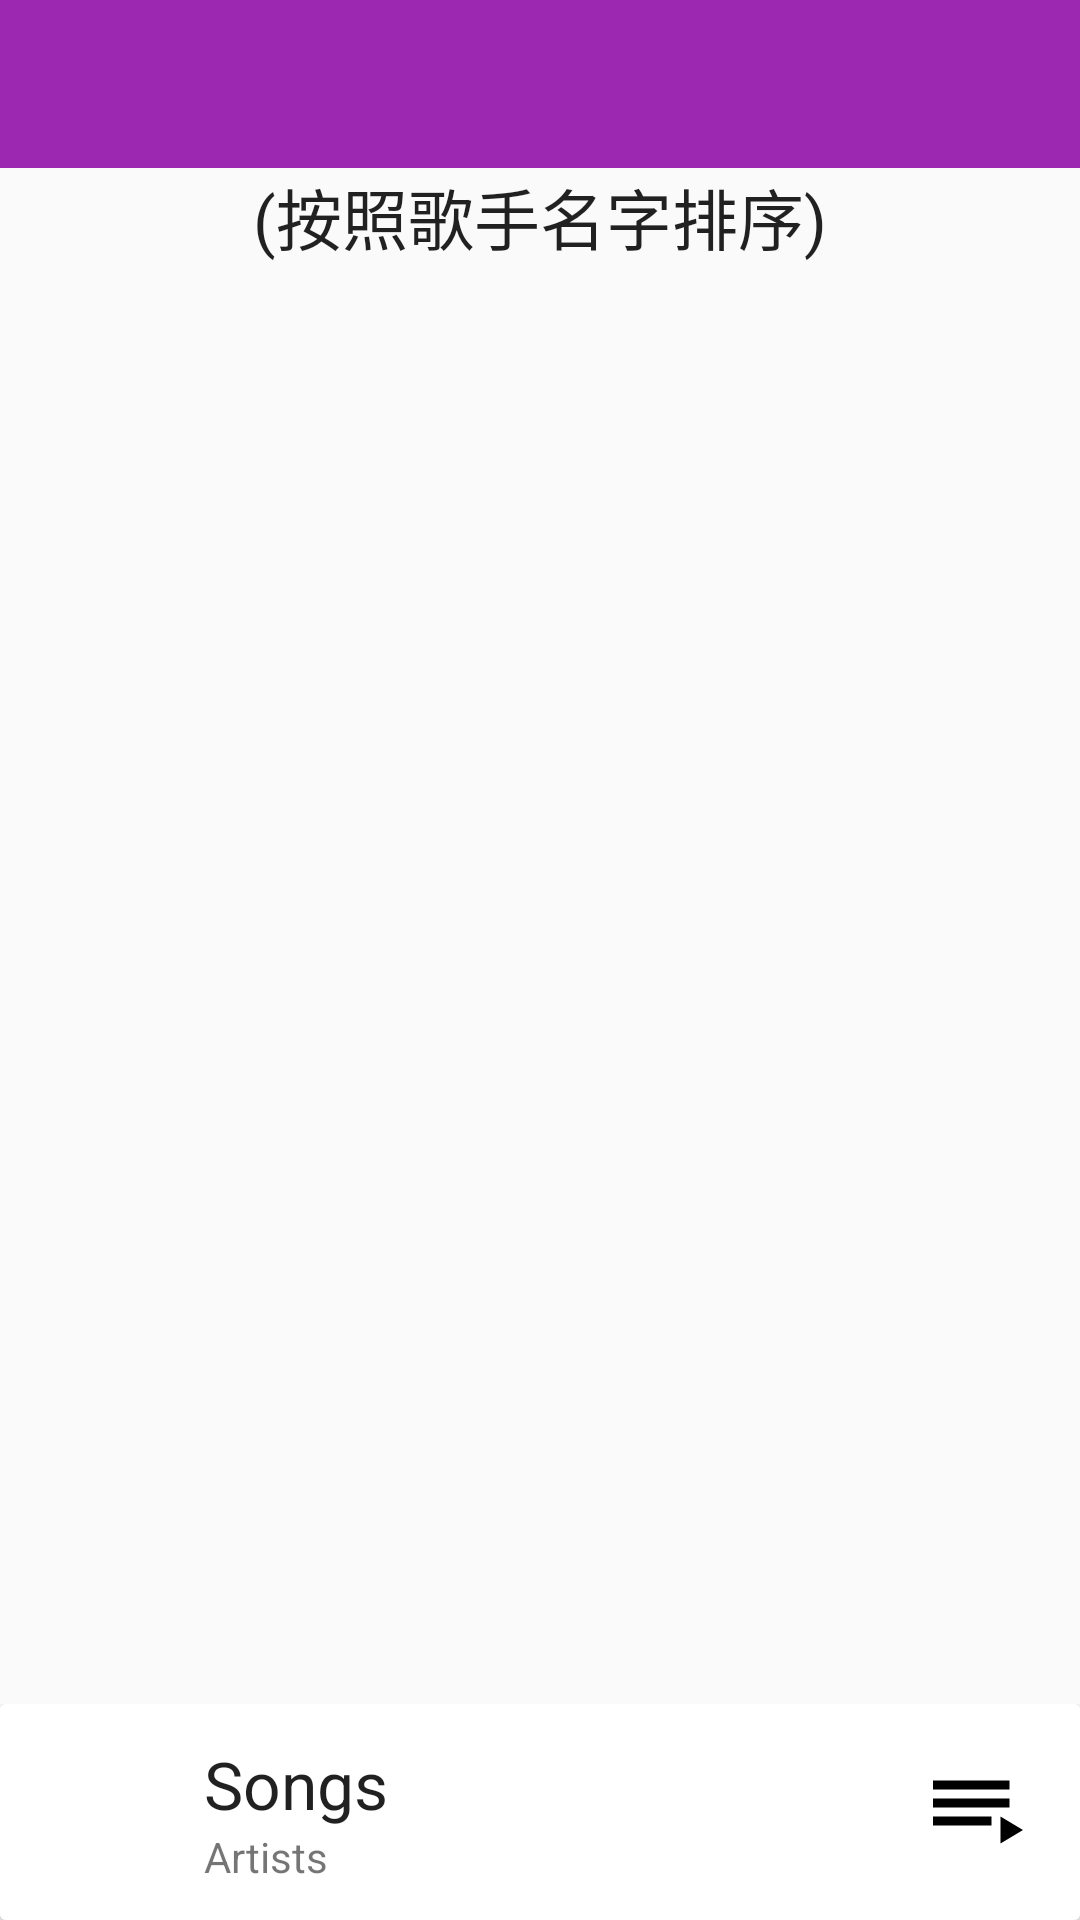

Named icons in this screenshot (1080×1920) and their bounding boxes, (x1, y1, x2, y2):
playlist: (933, 1780, 1023, 1844)
